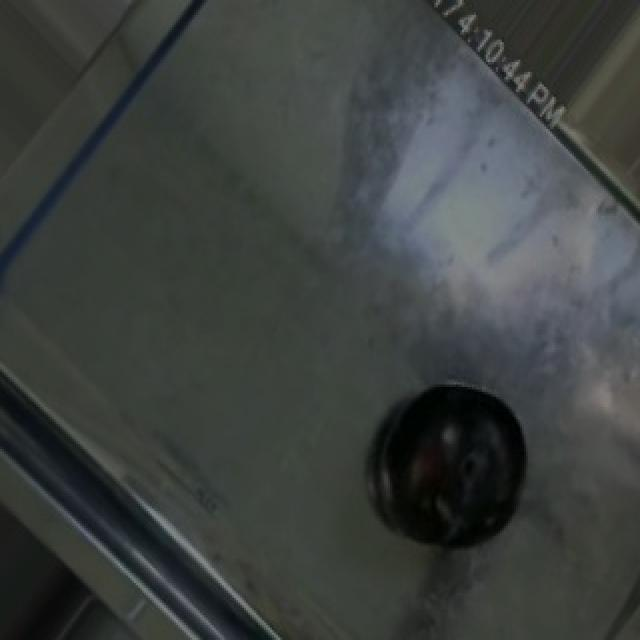Fruit: (370, 365, 544, 558)
